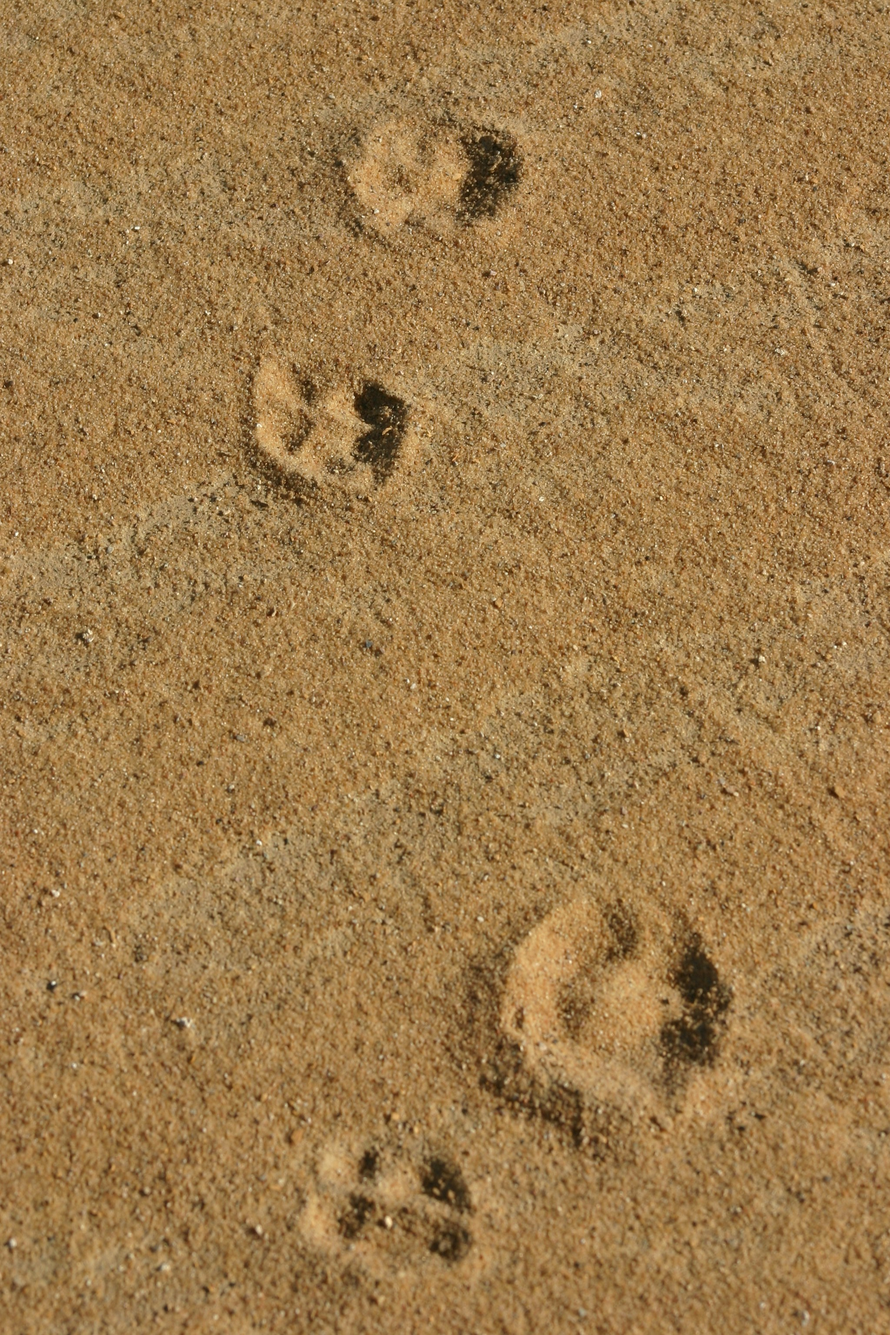animal_footprint: (484, 897, 730, 1149), (253, 355, 412, 494), (301, 1145, 473, 1272), (347, 120, 521, 235), (347, 120, 465, 235), (458, 129, 521, 220)
